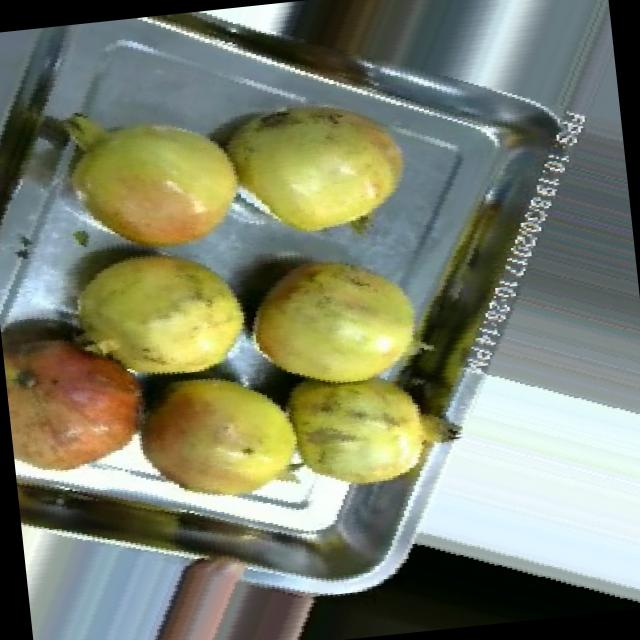fruit: (32, 76, 268, 280), (206, 77, 430, 268), (228, 234, 450, 418), (41, 231, 267, 408), (264, 339, 482, 521), (113, 351, 324, 527), (0, 304, 177, 496)
